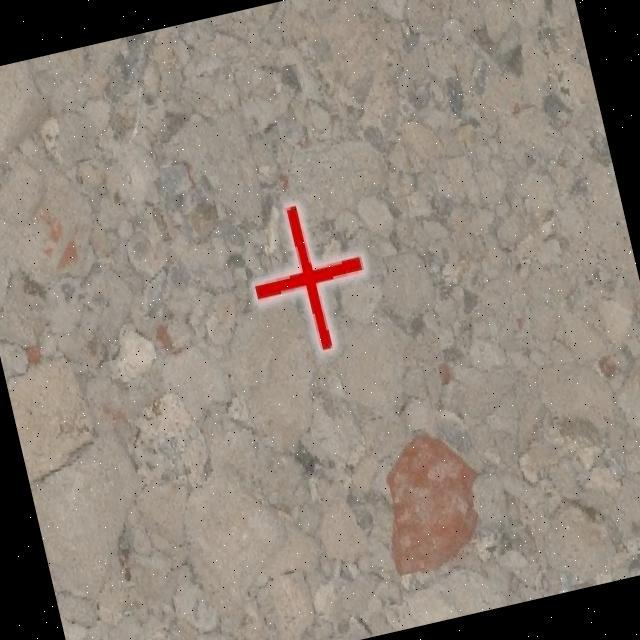x_marker: (238, 192, 378, 360)
